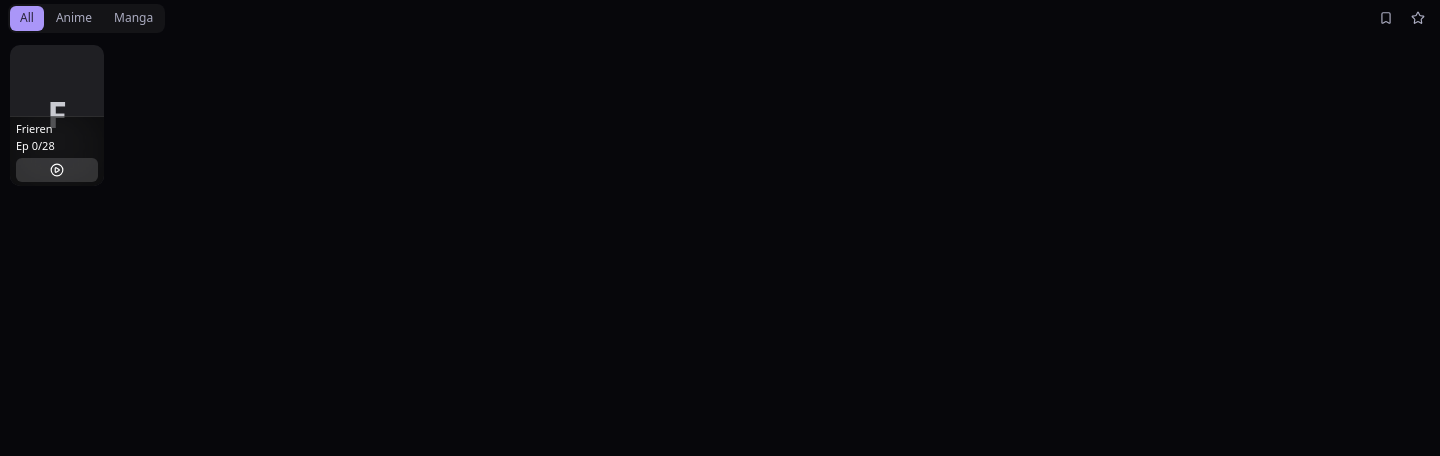
LibraryView › promotes a planned title to watching from the grid layout
The width and height of the screenshot is (1440, 456).
Click the button named "Start watching Frieren" at point(57, 170), box [16,158,98,182]
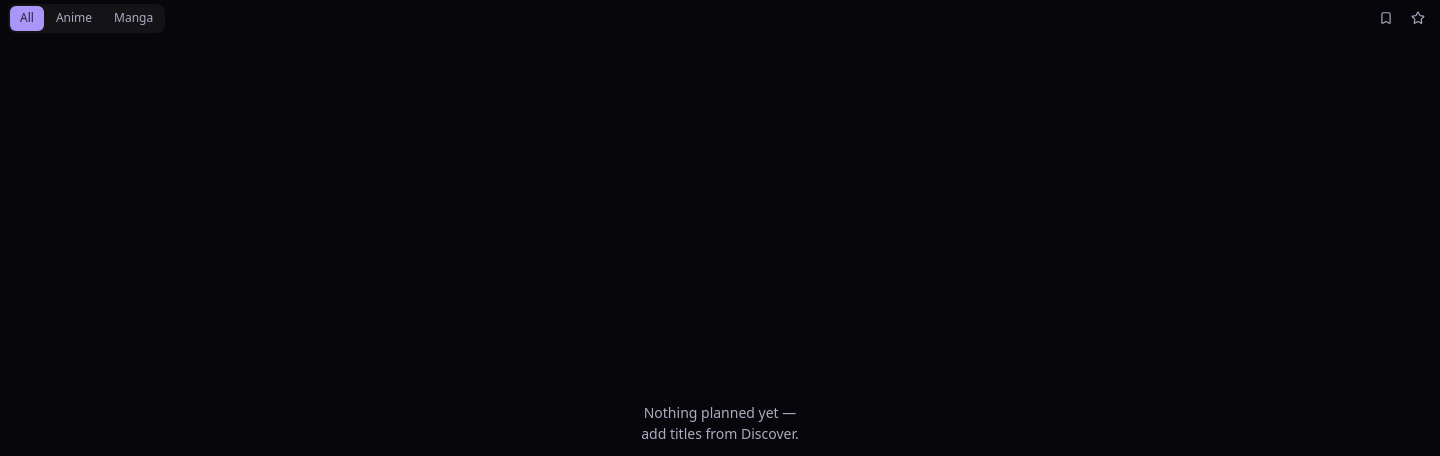
Expected: the link "Frieren" is gone
